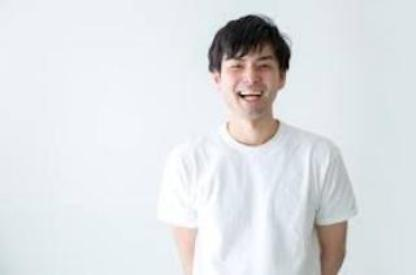person: (156, 13, 353, 275)
